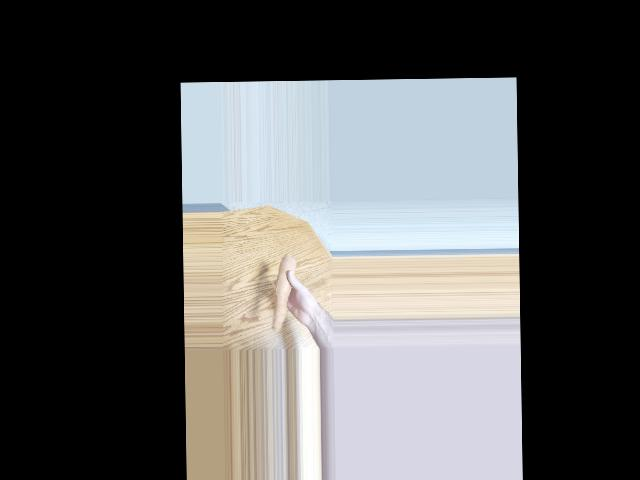sweet_potato: (274, 255, 290, 331)
